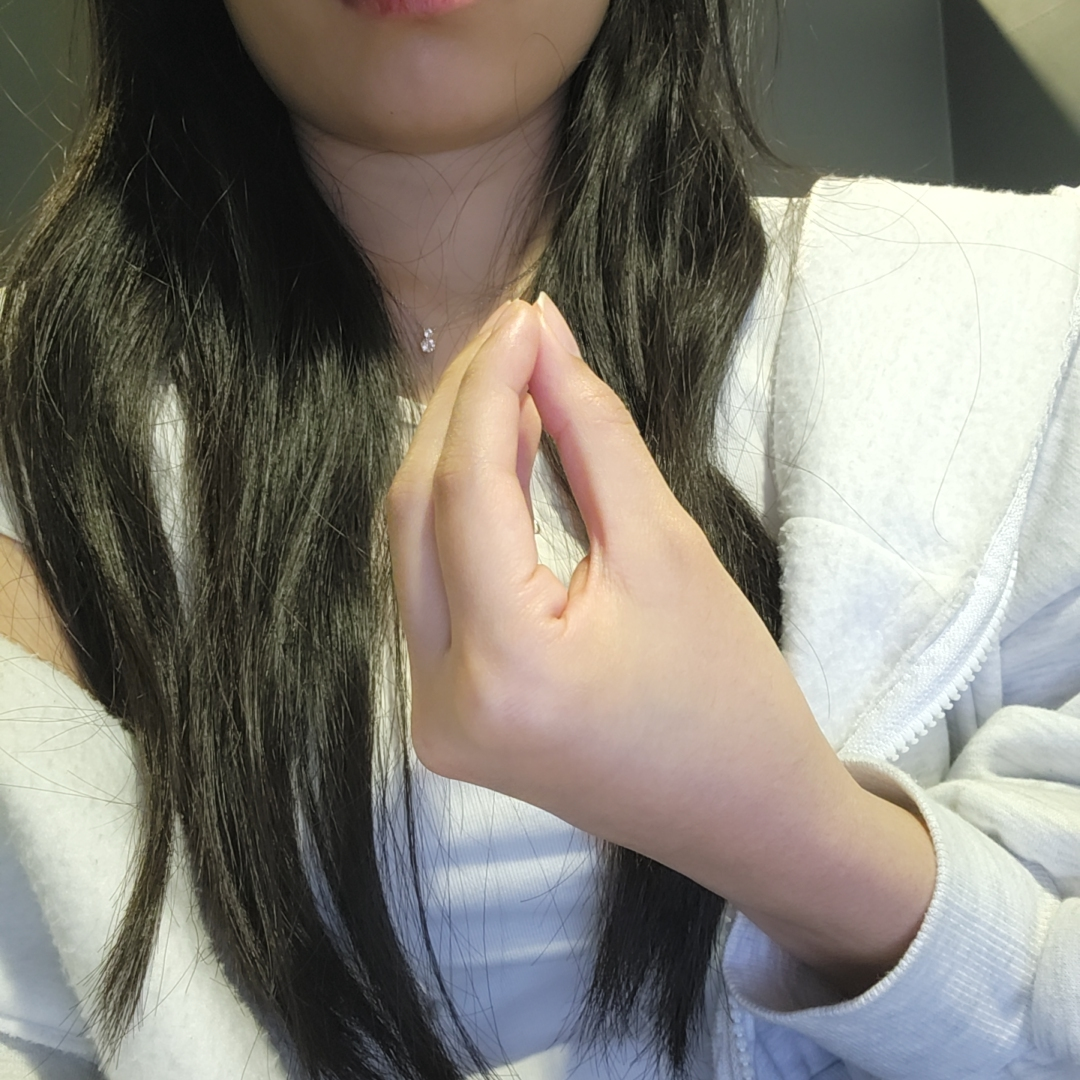happy: (384, 292, 759, 866)
